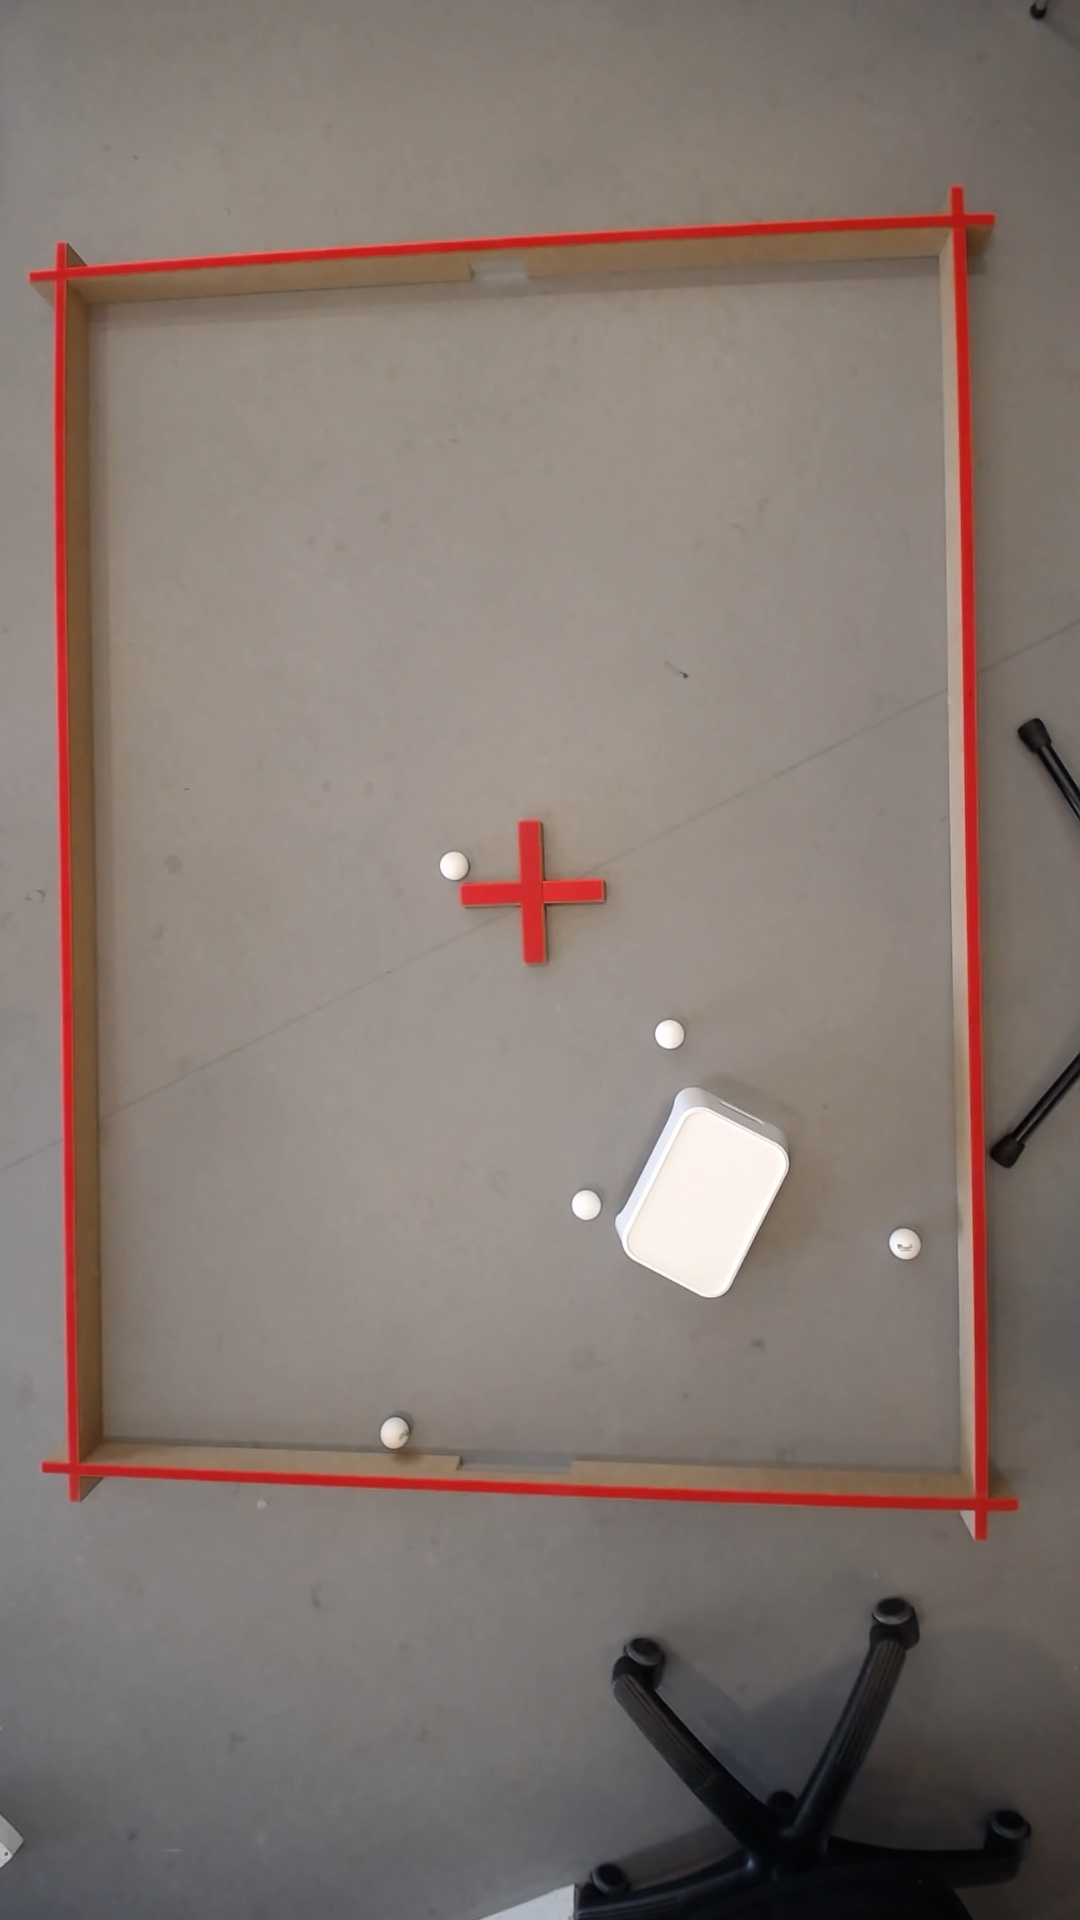balls: (600, 1087, 798, 1304), (884, 1224, 922, 1263), (566, 1185, 604, 1224), (650, 1015, 686, 1052), (434, 847, 468, 882)
car: (375, 1415, 405, 1448)
